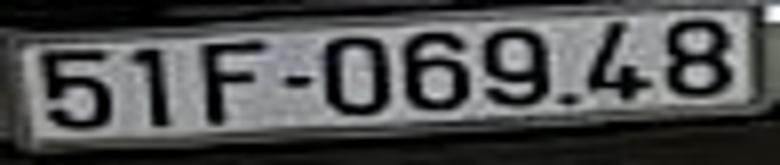-: (286, 74, 310, 86)
.: (561, 94, 574, 103)
0: (325, 37, 388, 115)
1: (136, 49, 168, 126)
4: (589, 21, 652, 101)
5: (42, 51, 111, 127)
6: (406, 33, 471, 110)
8: (669, 19, 732, 96)
9: (488, 27, 548, 106)
F: (204, 42, 266, 127)
